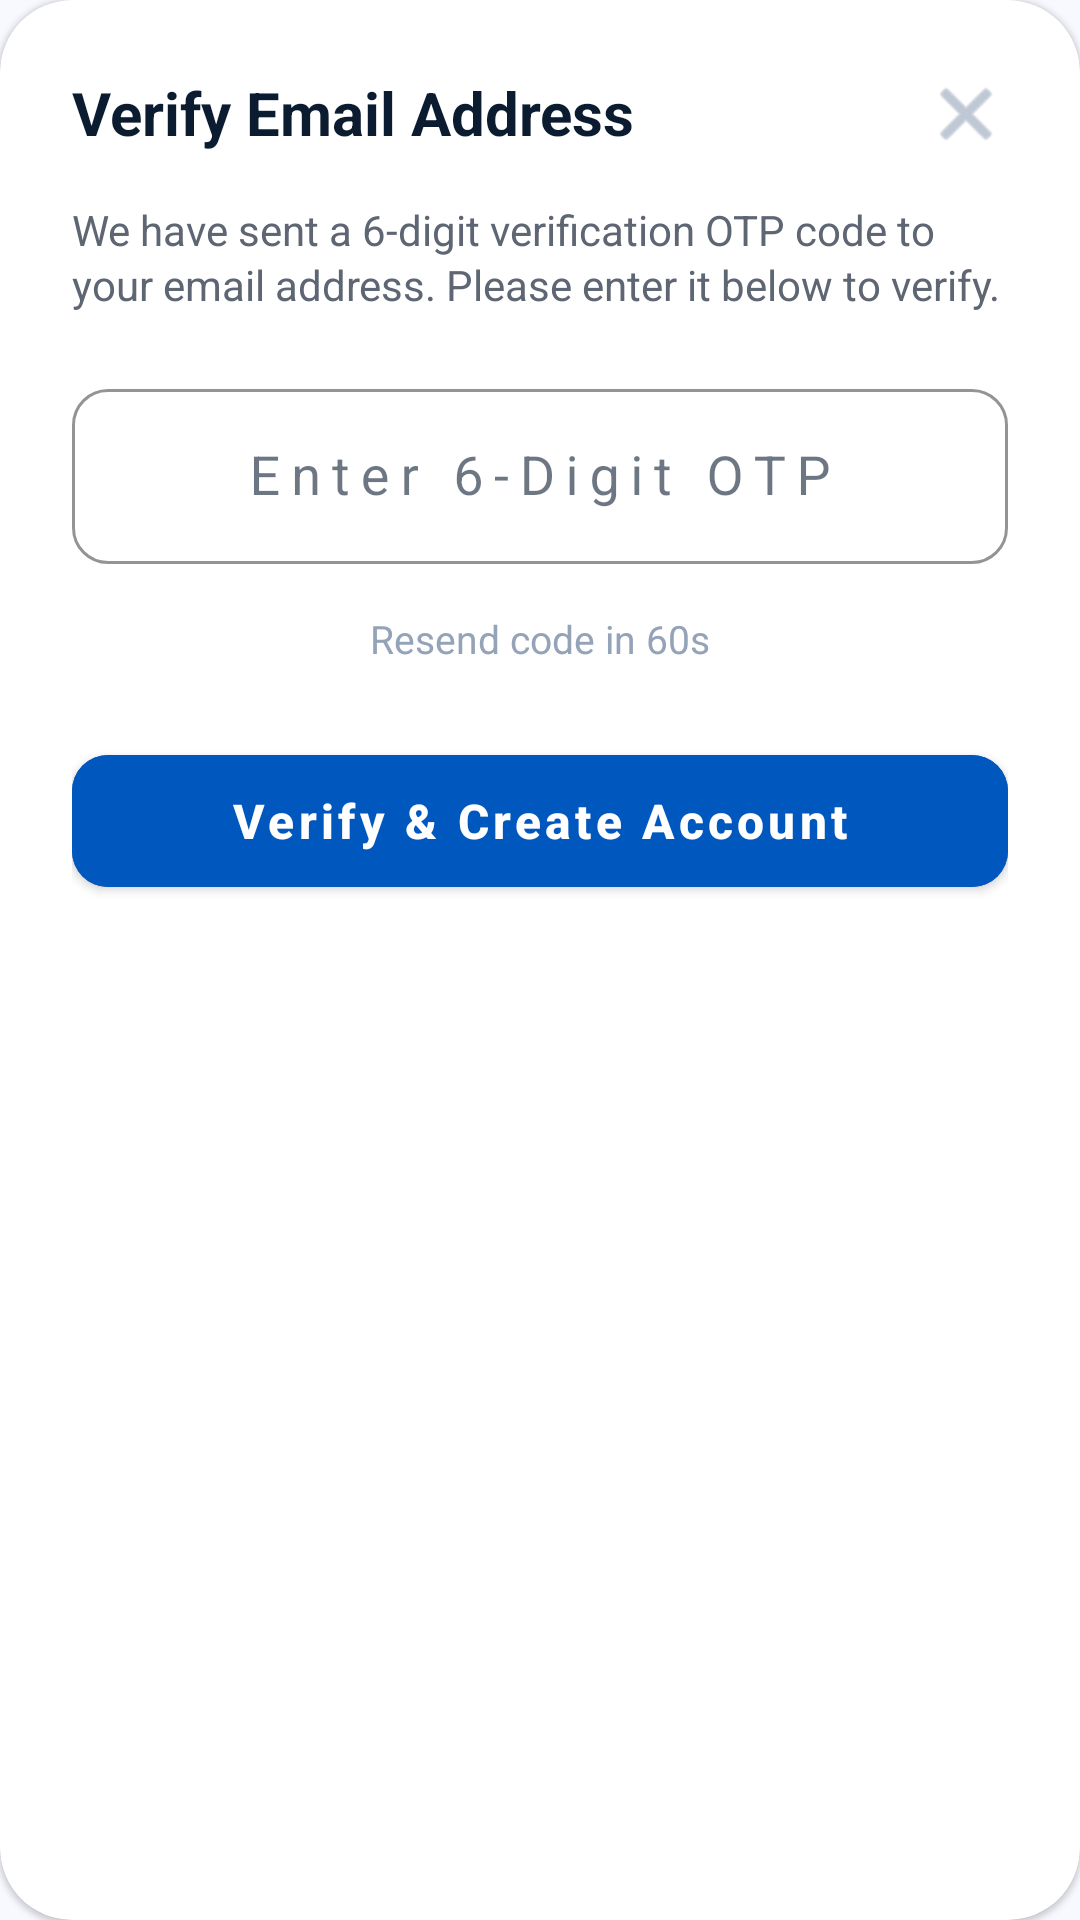

Screen size 1080 x 1920. Icon name, then its center in pixels as (x=x, y=y):
Close Dialog: (x=966, y=114)
